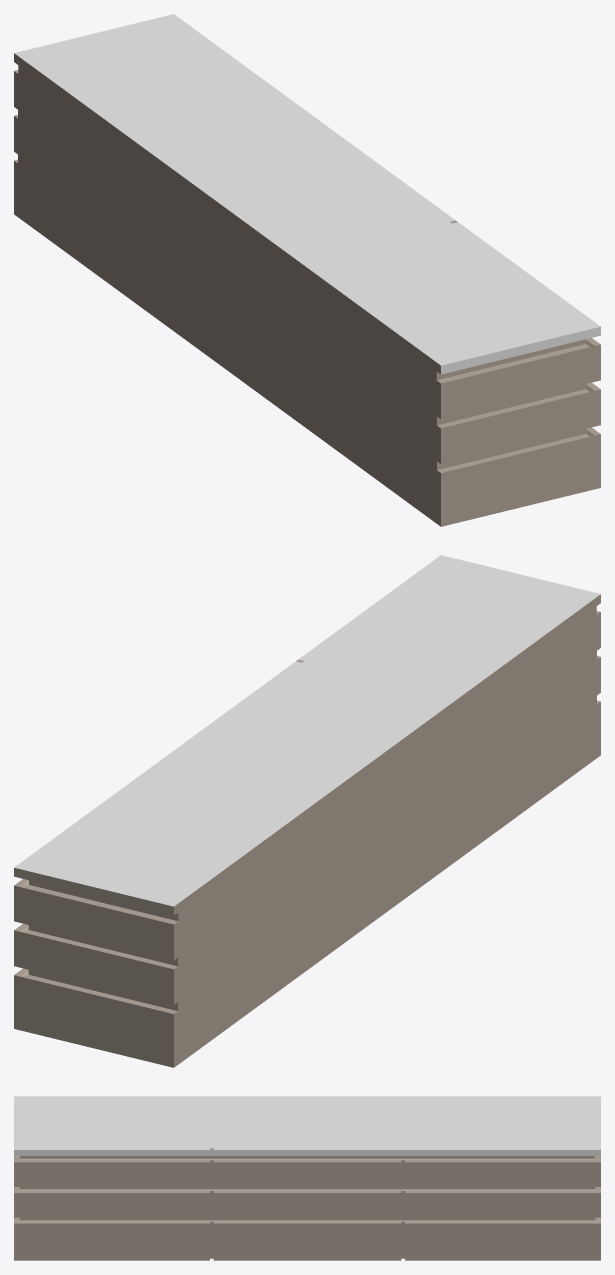
Rendered from Desk.fbx.
The picture shows the model from 3 angles, top to bottom: view 1: azimuth 30°, elevation 25°; view 2: azimuth 150°, elevation 25°; view 3: azimuth 270°, elevation 25°; orthographic projection. The views are drawn at different scales.
Parts seen in each view (by area): view 1: Desk; view 2: Desk; view 3: Desk.
Boxes of the visible parts, x1,y1,x2,y2 form: Desk: (14,14,600,526); Desk: (14,555,600,1067); Desk: (14,1096,600,1260).
Bounding box in the file's own units: 2.08 × 2 × 9.6.
